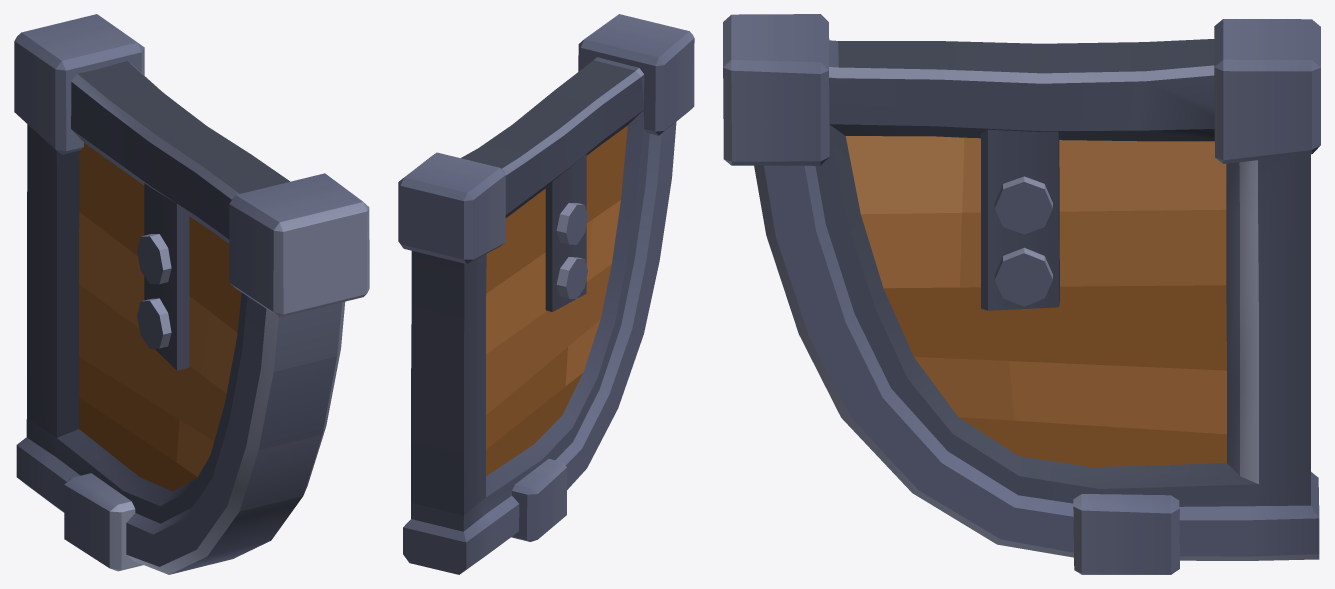
File: gate-door-a.obj
3 renders of one model, left to right at view 1: azimuth 30°, elevation 25°; view 2: azimuth 150°, elevation 25°; view 3: azimuth 270°, elevation 25°, orthographic. The views are drawn at different scales.
Bounding box in the file's own units: 1.31 × 5.16 × 5.44.
1 material, 1 textured.
